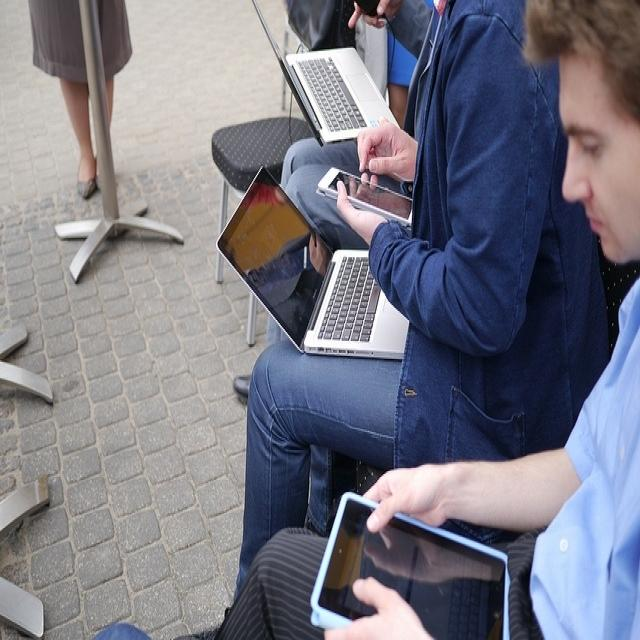E-waste: (199, 4, 421, 383), (310, 473, 530, 640)
